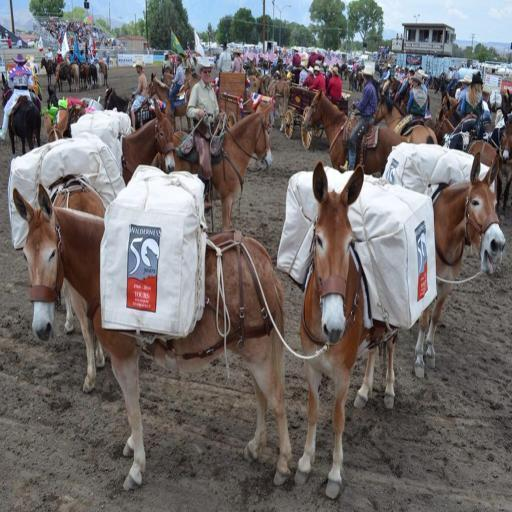horse: (12, 180, 294, 492), (297, 160, 403, 500), (398, 148, 508, 377), (40, 112, 106, 392), (174, 96, 276, 234), (429, 122, 504, 256), (68, 97, 178, 187), (300, 88, 412, 168), (0, 72, 48, 170), (372, 97, 436, 151), (102, 82, 172, 126), (144, 72, 194, 132), (436, 92, 498, 130), (252, 72, 292, 130), (494, 123, 512, 208), (490, 90, 512, 132), (54, 54, 72, 98), (62, 57, 78, 92), (46, 82, 61, 118), (76, 58, 92, 90), (344, 70, 364, 92), (40, 56, 58, 79), (88, 62, 96, 94), (95, 62, 104, 88), (338, 66, 348, 80)
